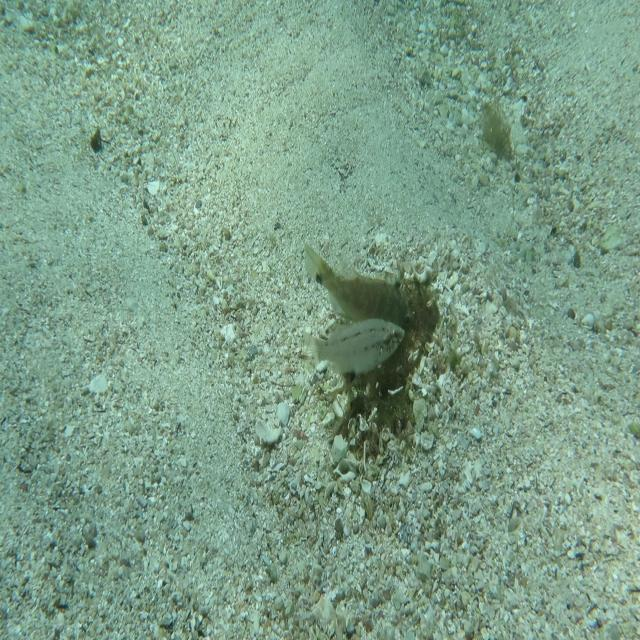NIP_CORE: (301, 239, 419, 341)
female: (300, 313, 406, 385)
nest: (323, 244, 463, 475)
